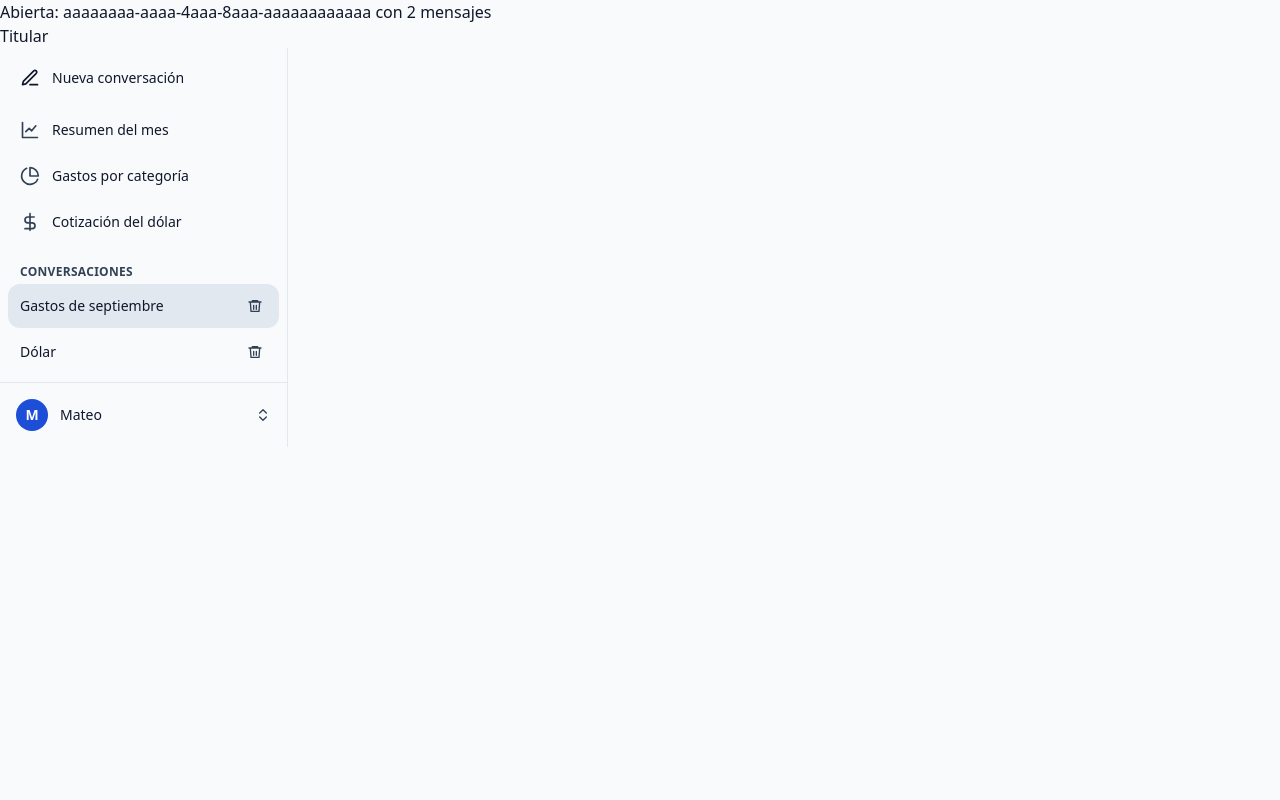
Test: borrar una conversación (con «Deshacer») › el tacho primero pide confirmación: mientras el diálogo está abierto no se oculta nada ni aparece el aviso
This screenshot has width=1280, height=800.
Click the button named "Borrar la conversación «Dólar»" at (255, 352), box x1=233 y1=330 x2=277 y2=374
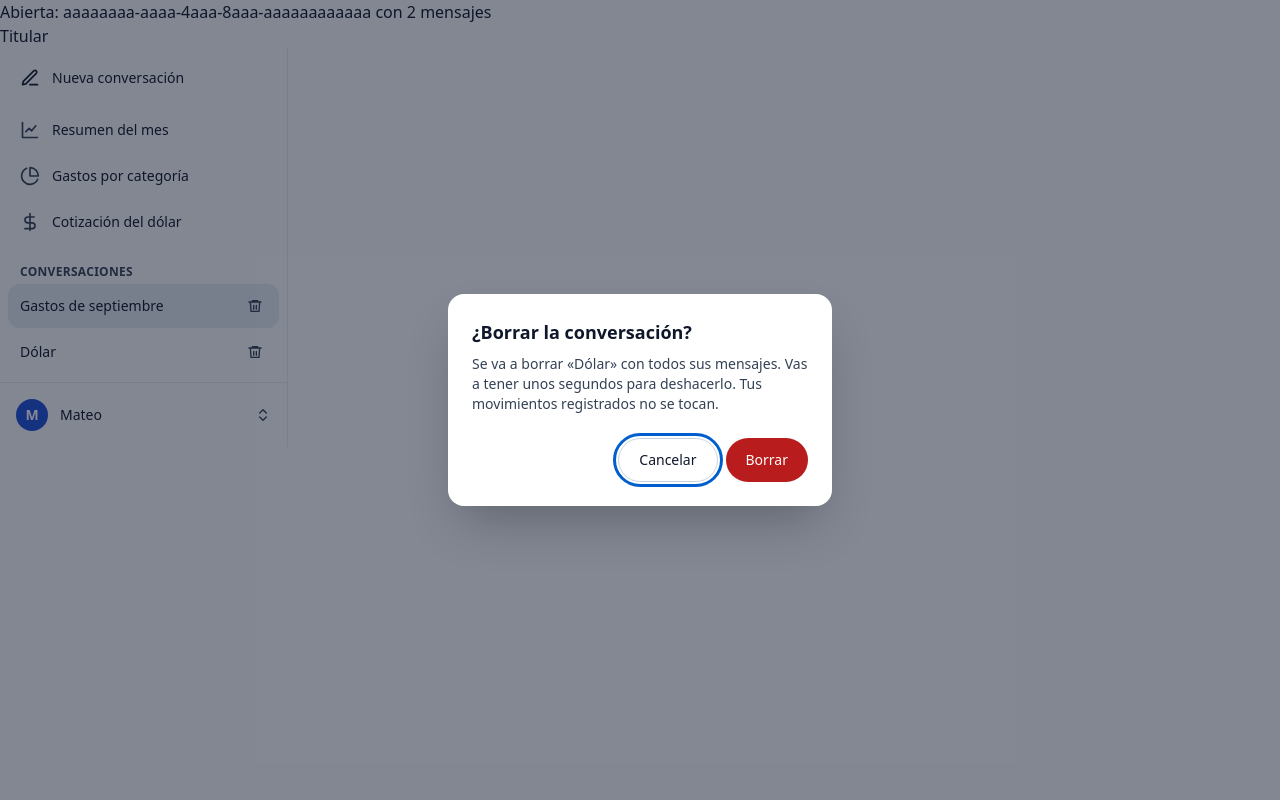
Expected: the dialog "¿Borrar la conversación?" shows "Se va a borrar «Dólar» con todos sus mensajes. Vas a tener unos segundos para deshacerlo.", x1=472 y1=354 x2=807 y2=413
